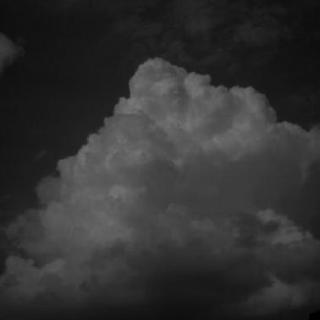Cumulus: (0, 51, 320, 320)
